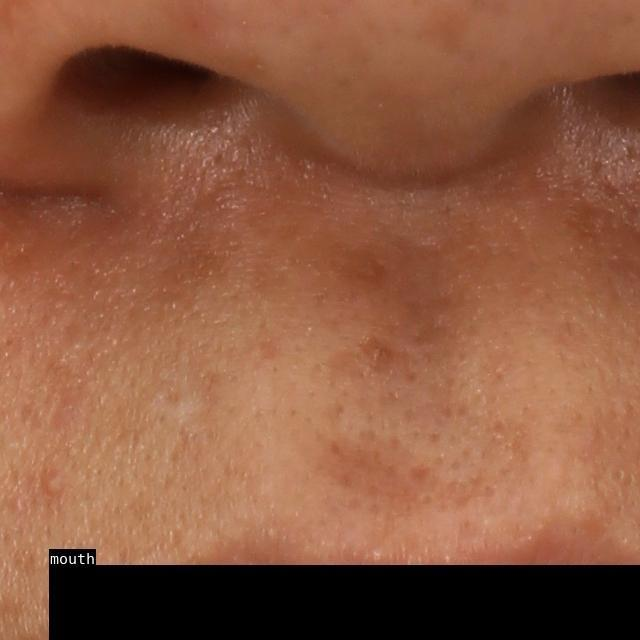hypertrophic_scar: (149, 379, 204, 434)
papule: (38, 471, 62, 497)
